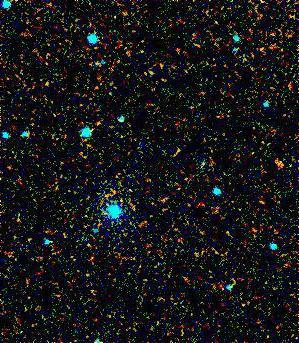star: (262, 148, 292, 178)
